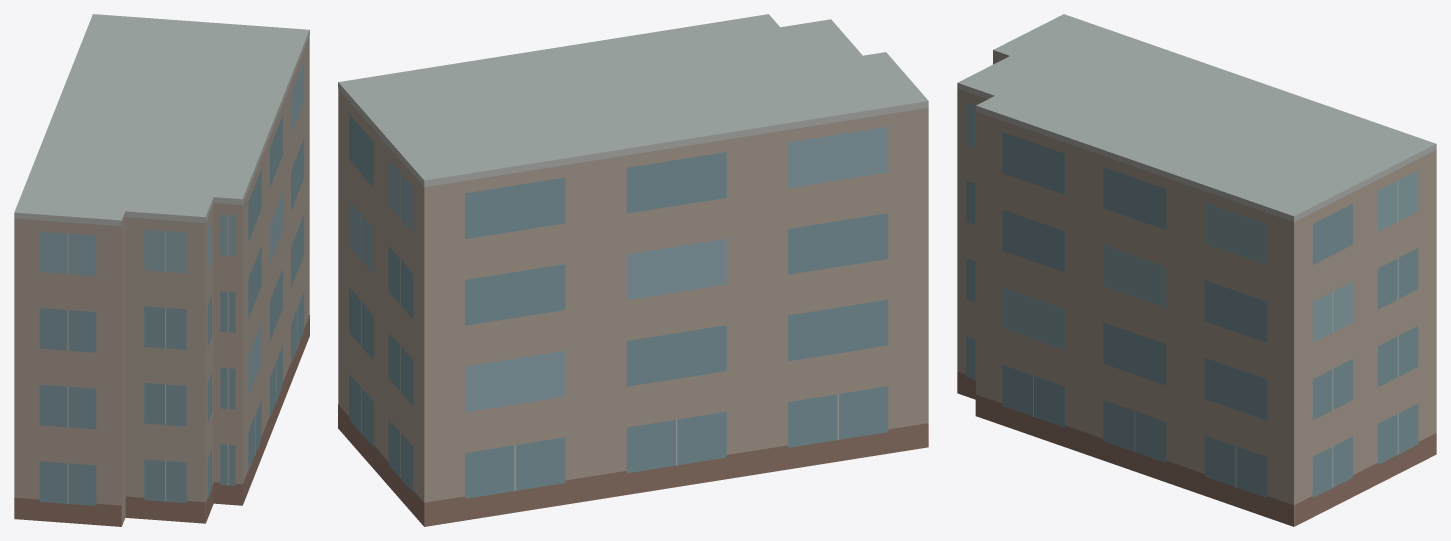
The model's file is survey-upis-32821129.glb.
3 views of the same model, side by side, from view 1: azimuth 30°, elevation 25°; view 2: azimuth 150°, elevation 25°; view 3: azimuth 270°, elevation 25° (orthographic). The views are drawn at different scales.
Visible parts, largest first — view 1: survey-upis-32821129.tmp; view 2: survey-upis-32821129.tmp; view 3: survey-upis-32821129.tmp.
Boxes of the visible parts, <box> form: survey-upis-32821129.tmp: <box>14,14,309,526</box>; survey-upis-32821129.tmp: <box>338,14,928,526</box>; survey-upis-32821129.tmp: <box>957,14,1436,526</box>.
Size of the model in its own units: 17.75 by 12.7 by 17.77.
